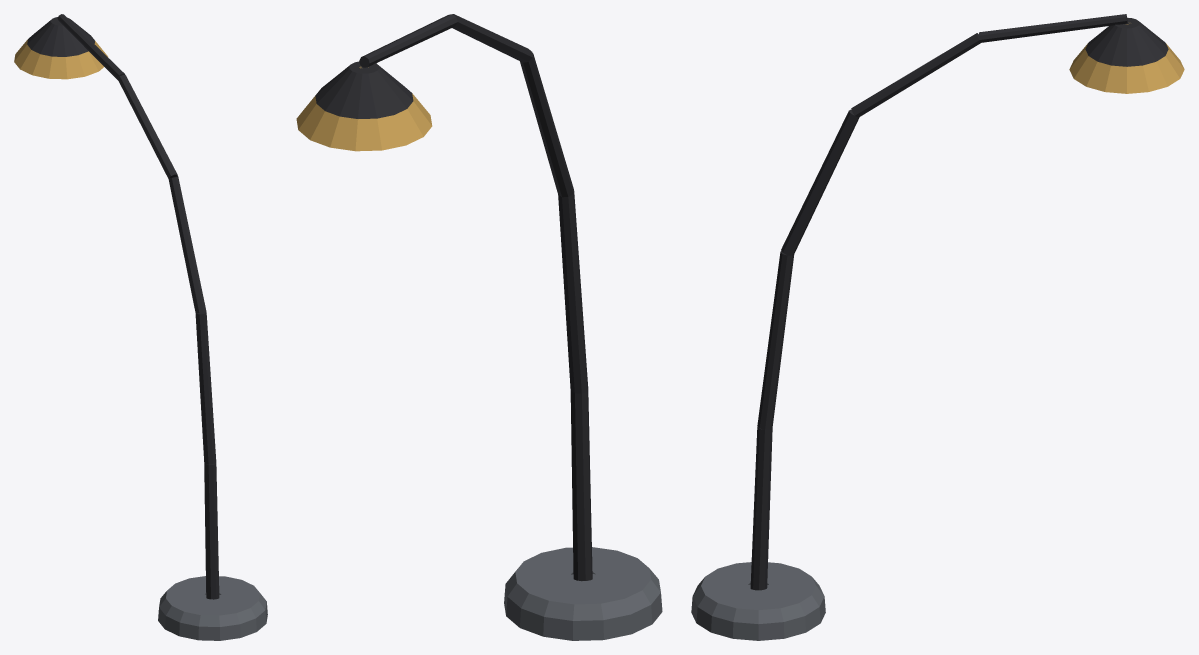
File: FN_Lamp_Arc.glb
The picture shows the model from 3 angles, left to right: view 1: azimuth 30°, elevation 25°; view 2: azimuth 150°, elevation 25°; view 3: azimuth 270°, elevation 25°; orthographic projection. The views are drawn at different scales.
Parts seen in each view (by area): view 1: FN_Lamp_Arc; view 2: FN_Lamp_Arc; view 3: FN_Lamp_Arc.
Boxes of the visible parts, bbox=[...] form: FN_Lamp_Arc: bbox=[14, 14, 267, 640]; FN_Lamp_Arc: bbox=[296, 14, 662, 640]; FN_Lamp_Arc: bbox=[691, 14, 1184, 640].
Bounding box in the file's own units: 0.42 × 2.06 × 1.54.
Materials: 2 (2 with a texture image).
